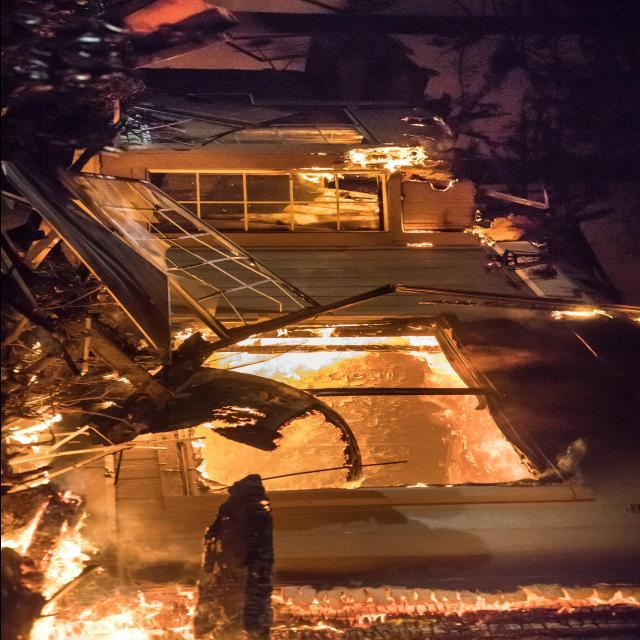Fire: (0, 313, 450, 640), (287, 140, 483, 210)
